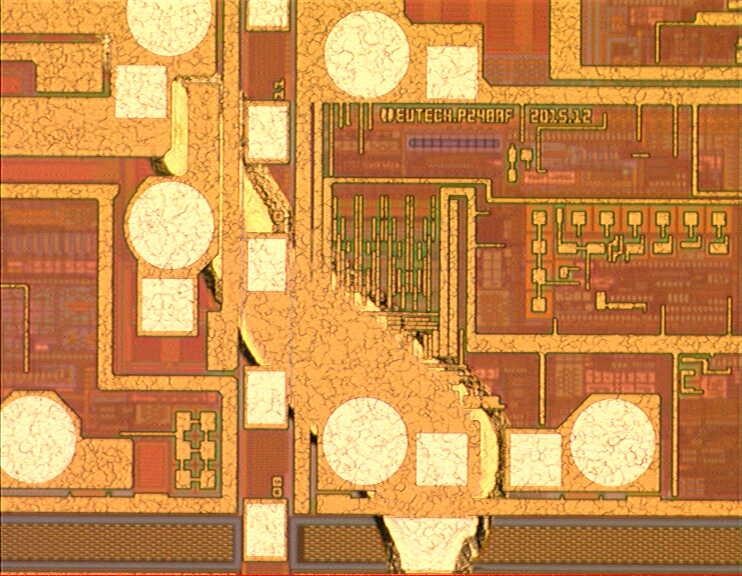BLOCK ETCH: (134, 59, 519, 576)
